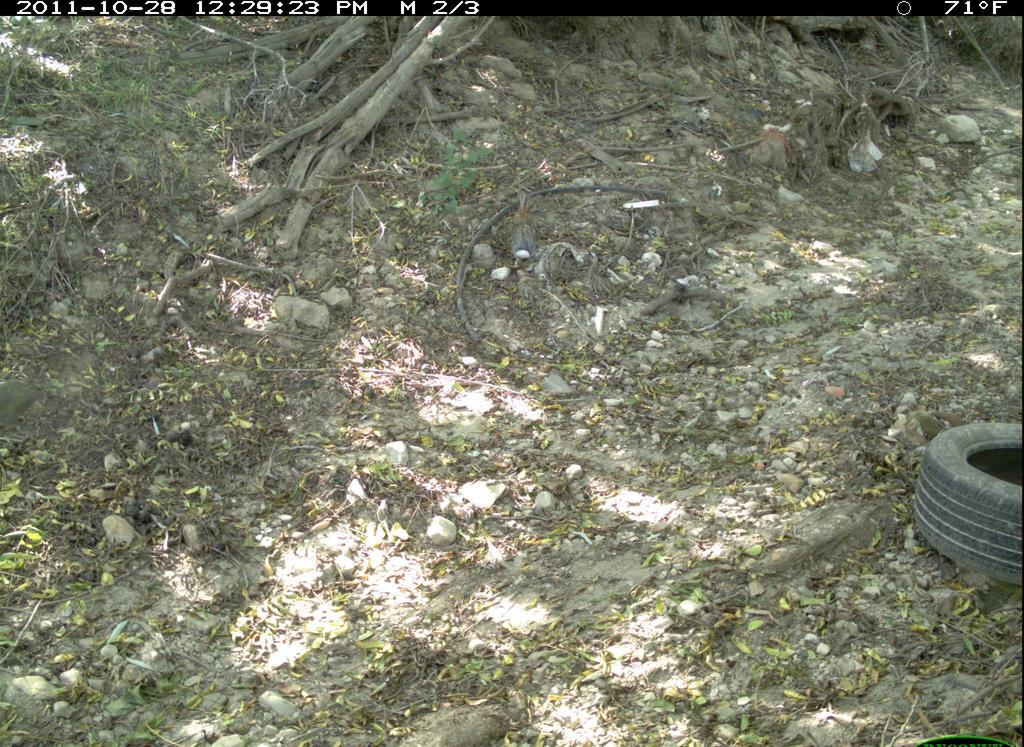rabbit: (502, 184, 545, 274)
